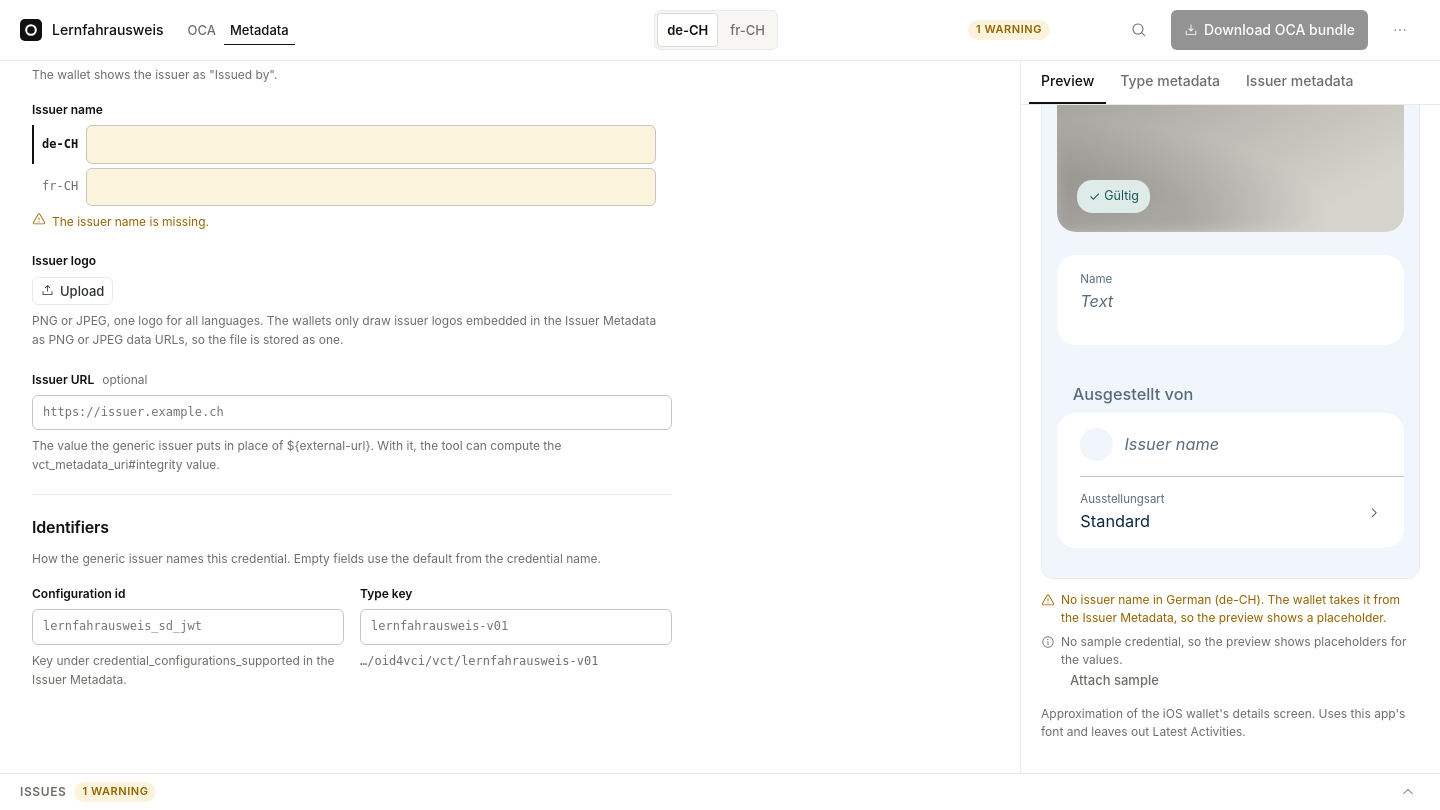
Metadata page › shows an error on an identifier that is not lower-case letters, digits, _ and -
This screenshot has width=1440, height=810.
(page scrolled)
Type "Lernfahrausweis SD" into the field labelled "Configuration id" at (188, 627), box [32,609,344,645]
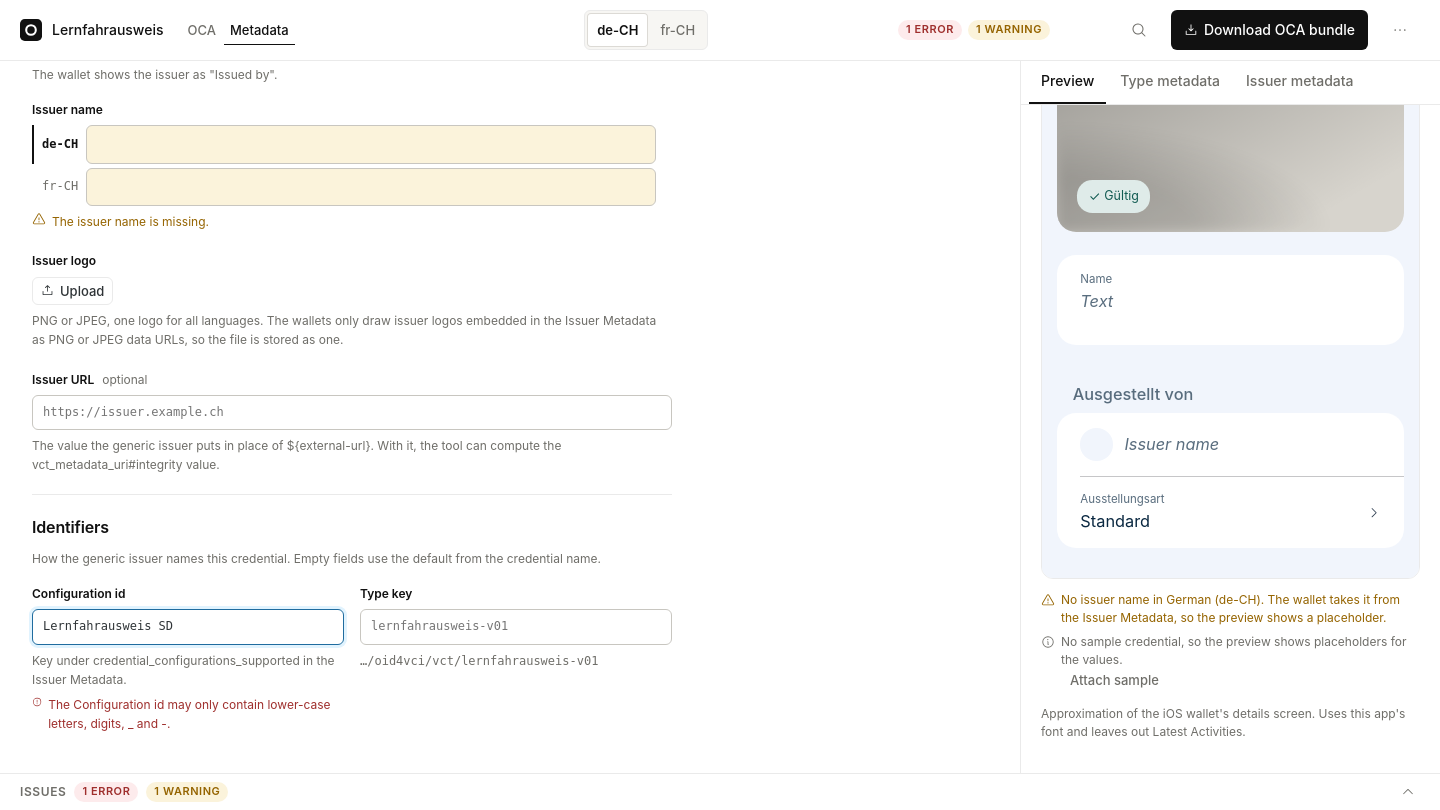
Check: the text "The Configuration id may only contain lower-case letters, digits, _ and -." is shown, box [32,695,344,733]
